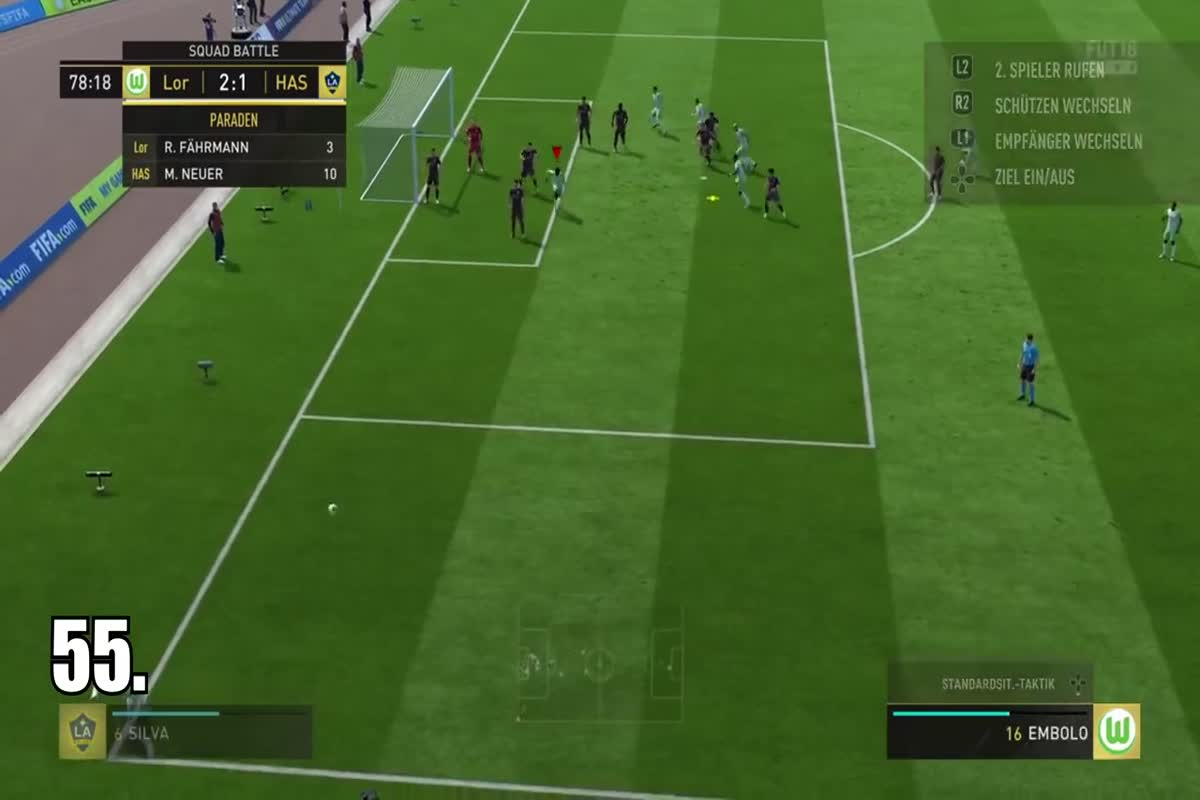ball: (317, 494, 346, 522)
